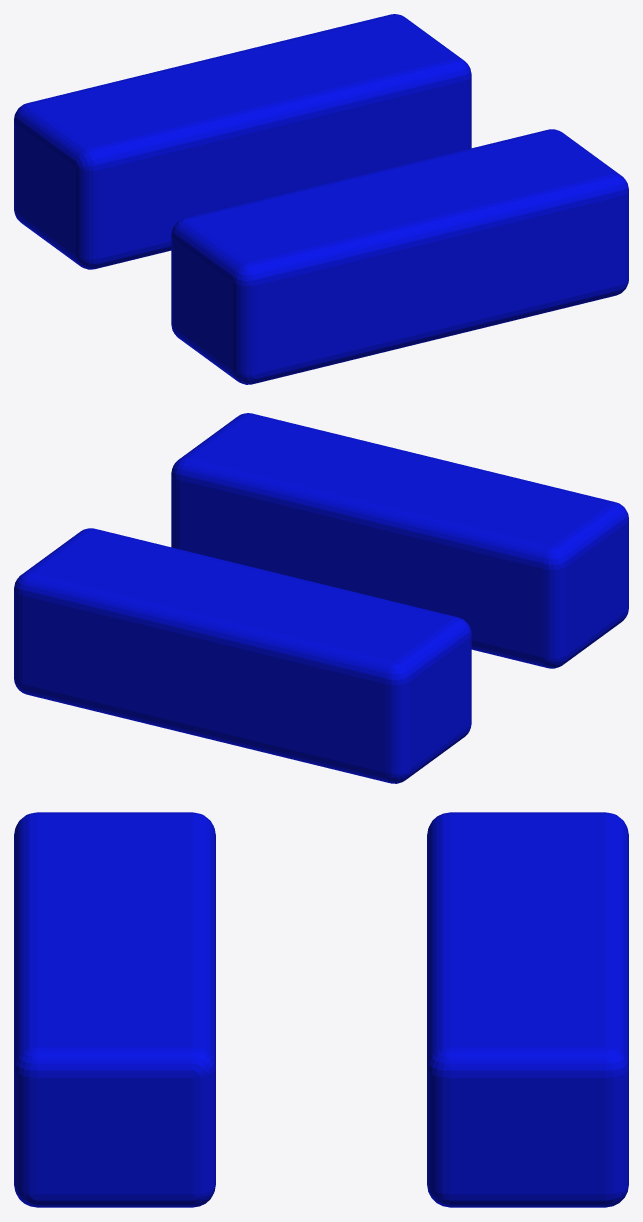
The model's file is batteries.dae.
The picture shows the model from 3 angles, top to bottom: view 1: azimuth 30°, elevation 25°; view 2: azimuth 150°, elevation 25°; view 3: azimuth 270°, elevation 25°; orthographic projection. The views are drawn at different scales.
Visible parts, largest first — view 1: batteries; view 2: batteries; view 3: batteries.
Boxes of the visible parts, x1=… form: batteries: x1=14, y1=14, x2=628, y2=384; batteries: x1=14, y1=413, x2=628, y2=783; batteries: x1=14, y1=812, x2=628, y2=1207.
Size of the model in its own units: 0.13 by 0.134 by 0.038.
